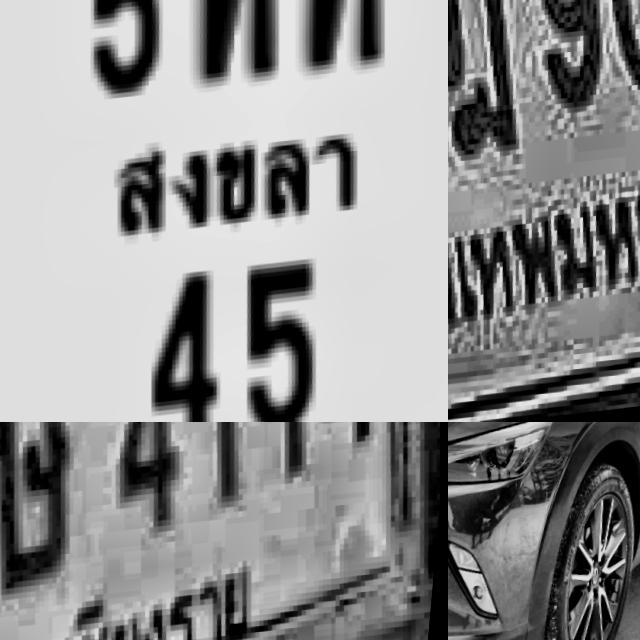license-plate: (0, 0, 448, 422), (0, 422, 448, 640), (448, 0, 640, 422)
